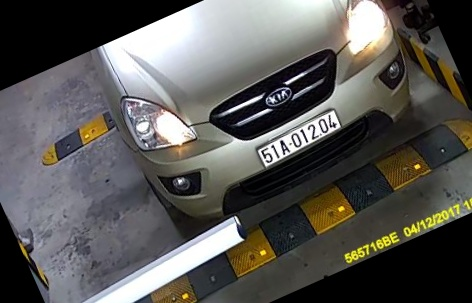plate: (253, 108, 342, 175)
